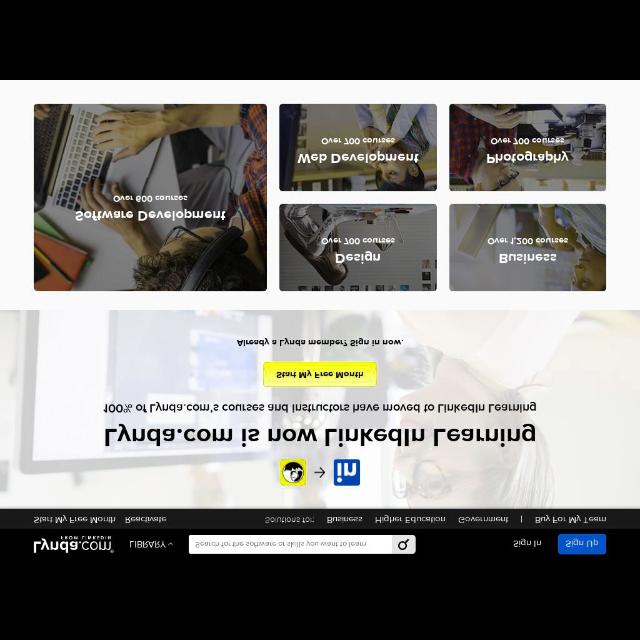backgroundimage: (1, 310, 639, 508)
button: (393, 534, 415, 554)
icon: (398, 540, 410, 550), (314, 468, 326, 478), (167, 542, 173, 548)
image: (35, 105, 266, 291), (279, 203, 436, 291), (450, 105, 608, 192), (280, 105, 436, 192), (450, 204, 606, 290), (334, 458, 360, 486), (281, 460, 307, 486)
input: (190, 534, 392, 554)
multitab: (1, 509, 639, 528), (128, 539, 174, 549)
spinner: (33, 532, 115, 554)
text: (103, 421, 537, 447), (104, 400, 536, 412), (236, 338, 404, 348), (195, 541, 367, 549), (276, 369, 364, 379), (34, 515, 118, 525), (374, 514, 446, 524), (535, 514, 607, 524), (266, 515, 316, 525), (458, 514, 508, 524), (128, 540, 166, 550), (327, 514, 363, 524), (566, 538, 600, 548), (126, 516, 166, 524), (514, 538, 540, 548)
textbutton: (264, 364, 378, 386), (560, 532, 606, 554)
toolbar: (1, 529, 639, 559)
